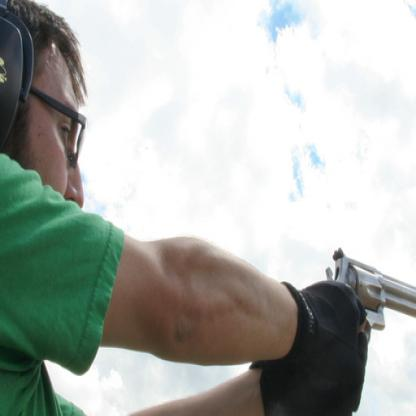gun: (324, 249, 415, 337)
